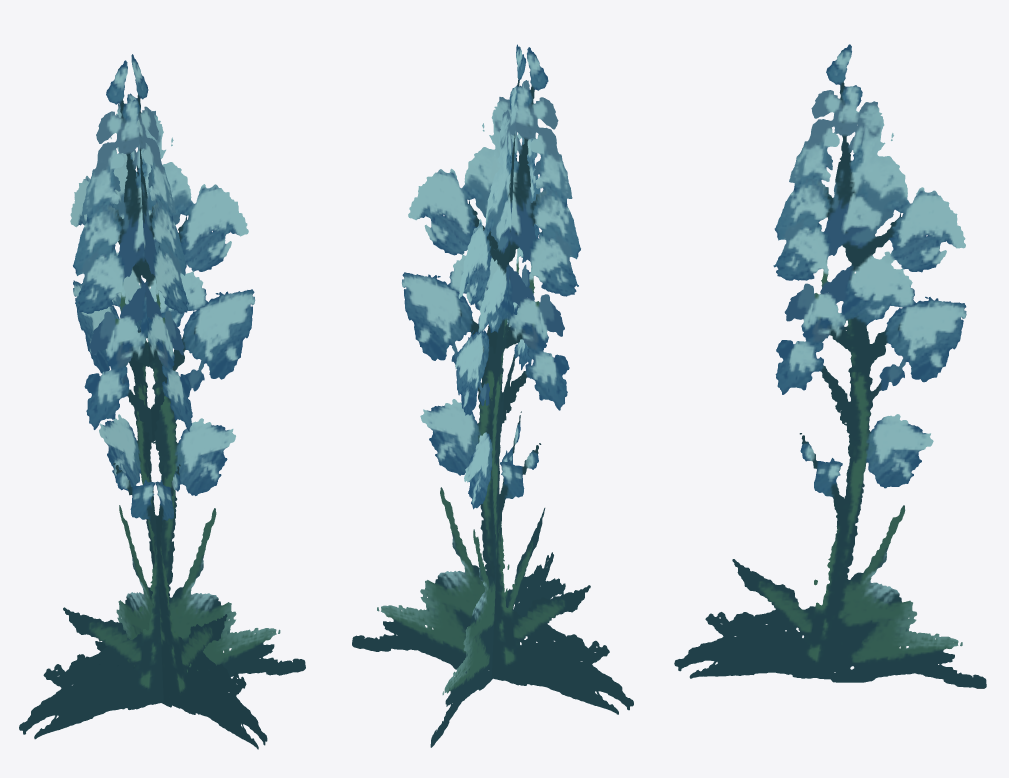
The model's file is obj_plantFlowerBlue.fbx.
The picture shows the model from 3 angles, left to right: view 1: azimuth 30°, elevation 25°; view 2: azimuth 150°, elevation 25°; view 3: azimuth 270°, elevation 25°; orthographic projection. The views are drawn at different scales.
Parts seen in each view (by area): view 1: obj_plantFlowerBlue; view 2: obj_plantFlowerBlue; view 3: obj_plantFlowerBlue.
Boxes of the visible parts, x1,y1,x2,y2 form: obj_plantFlowerBlue: (19, 54, 305, 749); obj_plantFlowerBlue: (352, 44, 633, 747); obj_plantFlowerBlue: (674, 44, 986, 688).
Size of the model in its own units: 46.86 by 103 by 46.45.
Materials: 1 (1 with a texture image).
